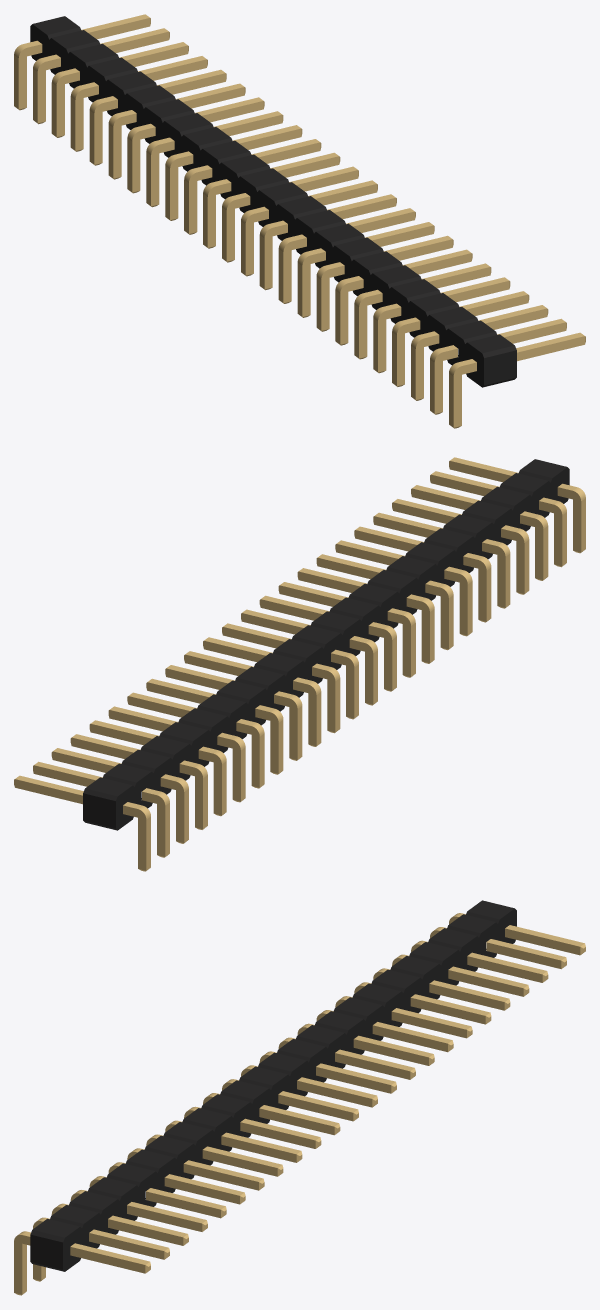
File: kc-pinheader_1x24_p2.54mm_horizontal.glb
3 renders of one model, top to bottom at view 1: azimuth 30°, elevation 25°; view 2: azimuth 150°, elevation 25°; view 3: azimuth 330°, elevation 25°, orthographic.
Visible parts, largest first — view 1: 0.75_0.5_0.25_0.9, 0_0_0_0; view 2: 0.75_0.5_0.25_0.9, 0_0_0_0; view 3: 0.75_0.5_0.25_0.9, 0_0_0_0.
Part boxes in pixels (<box>): 0.75_0.5_0.25_0.9: <box>14,14,585,428</box>; 0_0_0_0: <box>30,16,516,387</box>; 0.75_0.5_0.25_0.9: <box>14,457,585,871</box>; 0_0_0_0: <box>83,459,569,830</box>; 0.75_0.5_0.25_0.9: <box>14,913,585,1295</box>; 0_0_0_0: <box>30,900,516,1271</box>.
Size of the model in its own units: 1.04 by 0.554 by 6.1.
